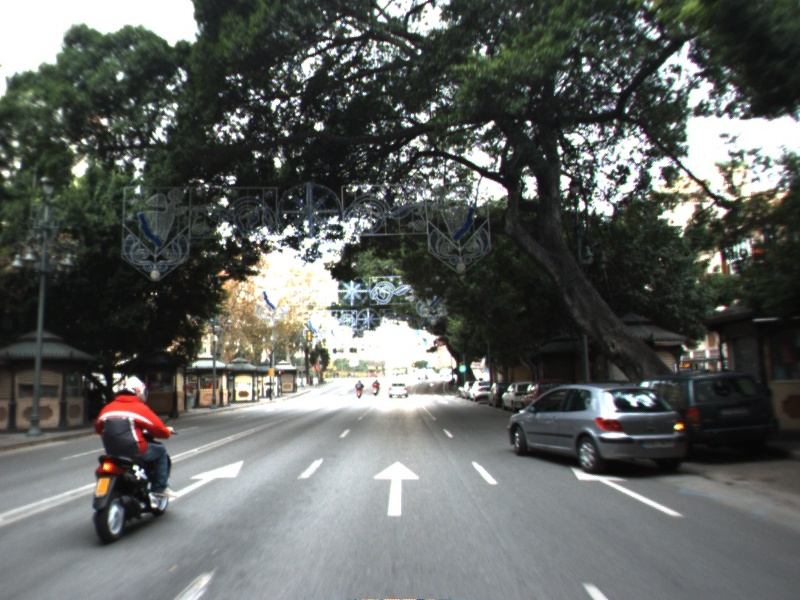STRAIGHT: (565, 462, 688, 520), (169, 456, 246, 500), (370, 457, 424, 519)
